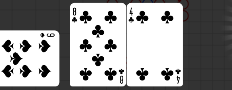4C: (174, 67, 181, 84)
9C: (38, 31, 55, 38)
